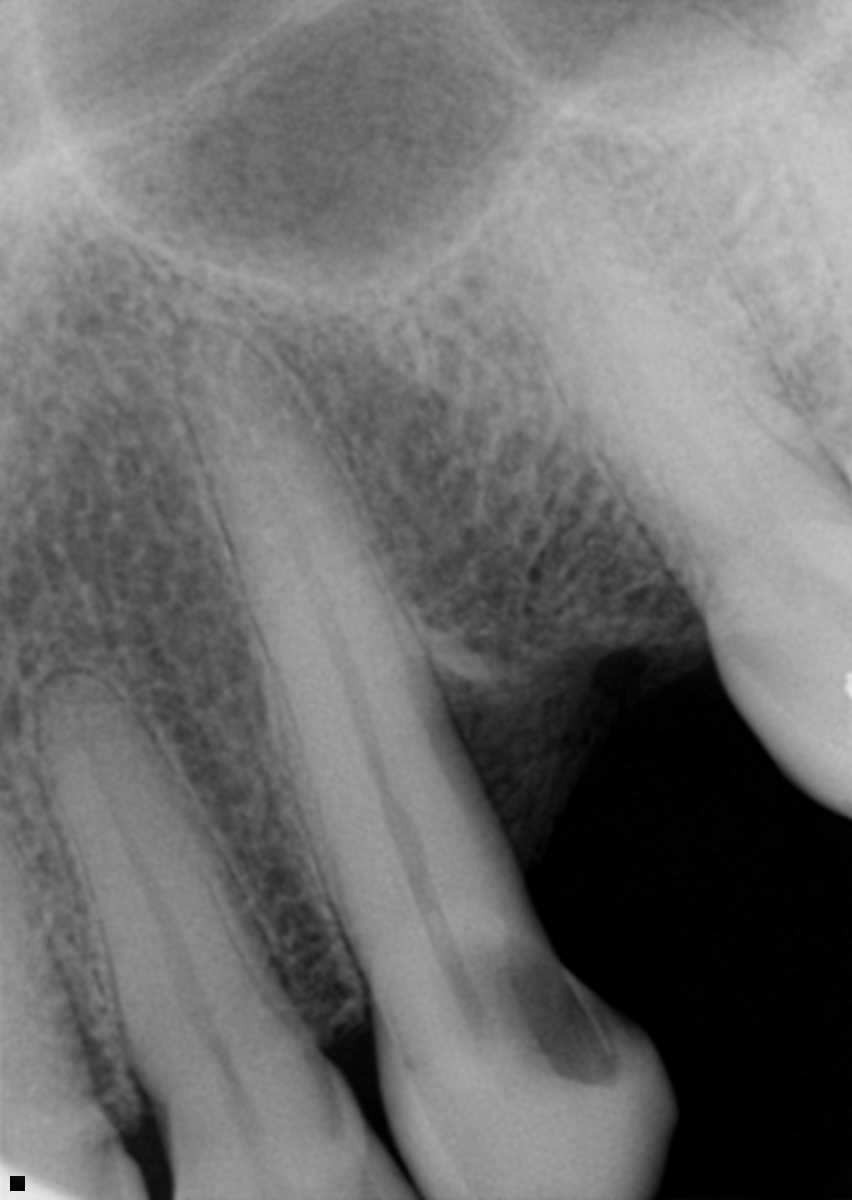Main Canal: (251, 446, 468, 985), (76, 708, 238, 1084)
Main Root: (174, 316, 528, 998), (483, 144, 834, 617), (36, 669, 312, 1114), (0, 810, 87, 1152)
decay: (506, 944, 624, 1094)
